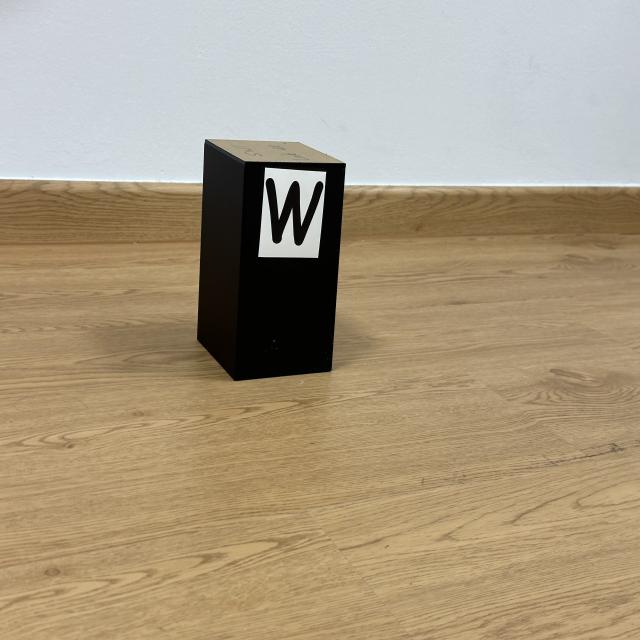W: (265, 178, 324, 245)
